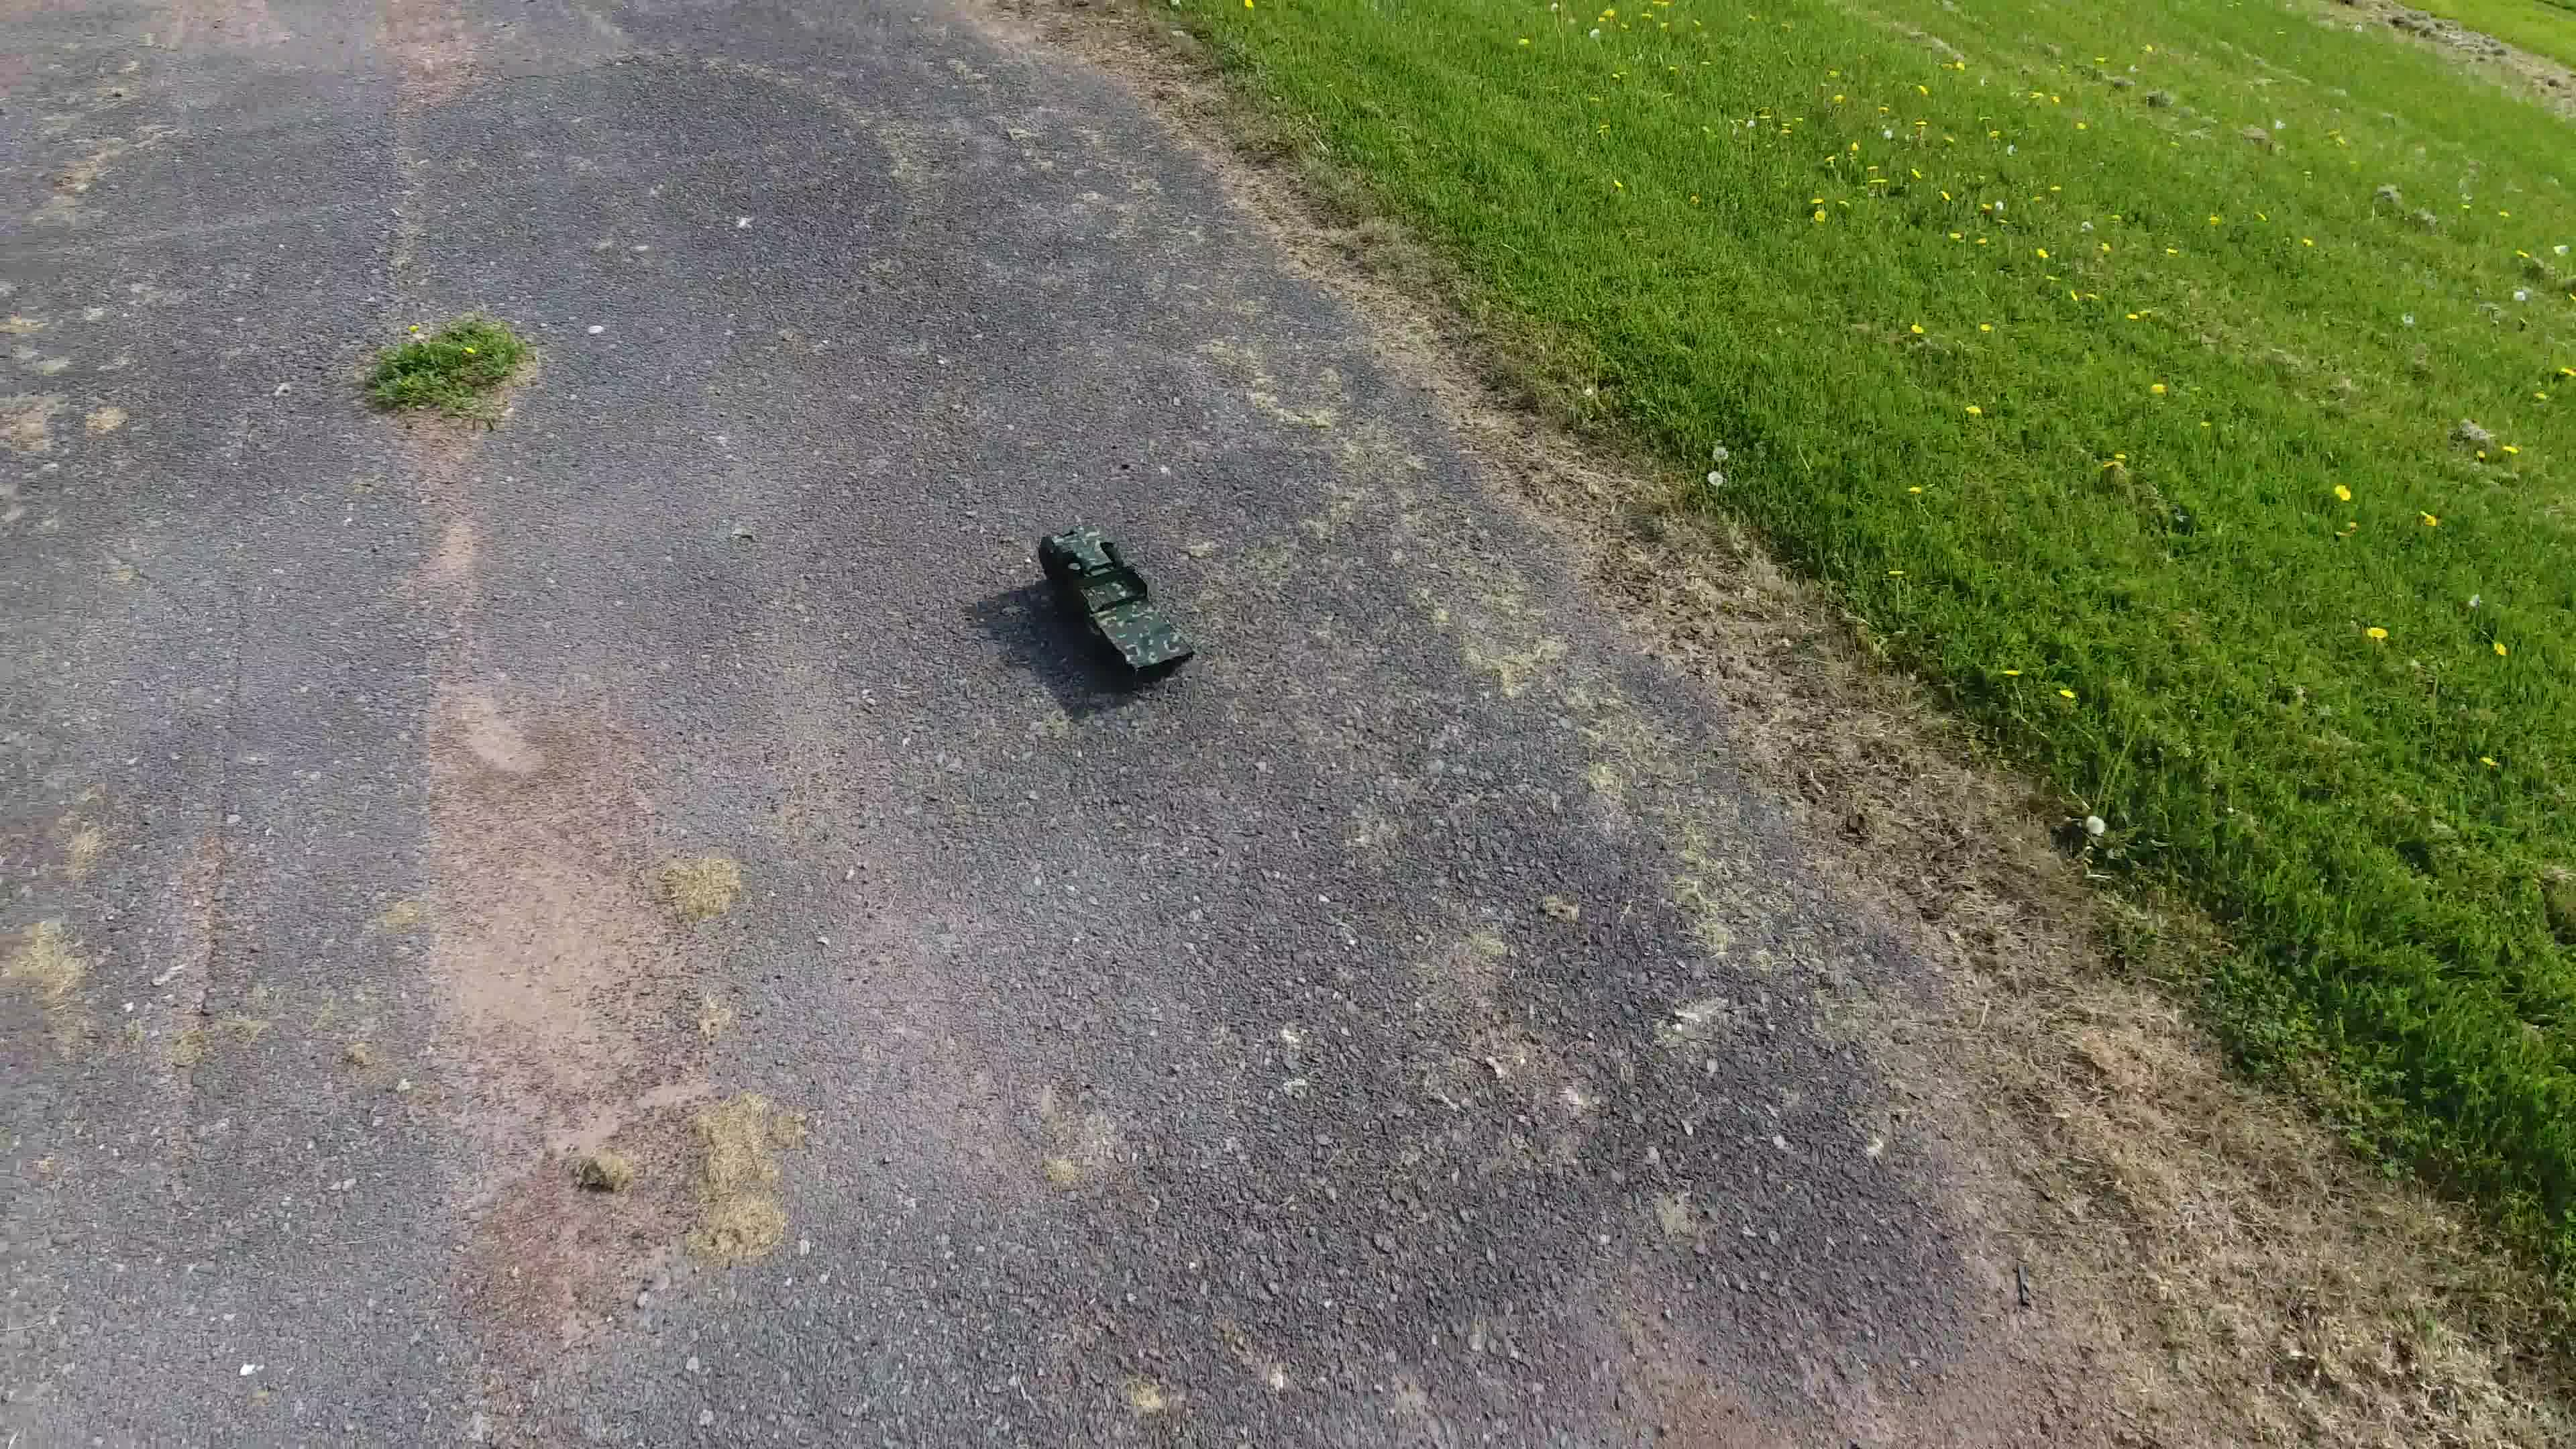transporter9_camo: (1035, 518, 1201, 688)
